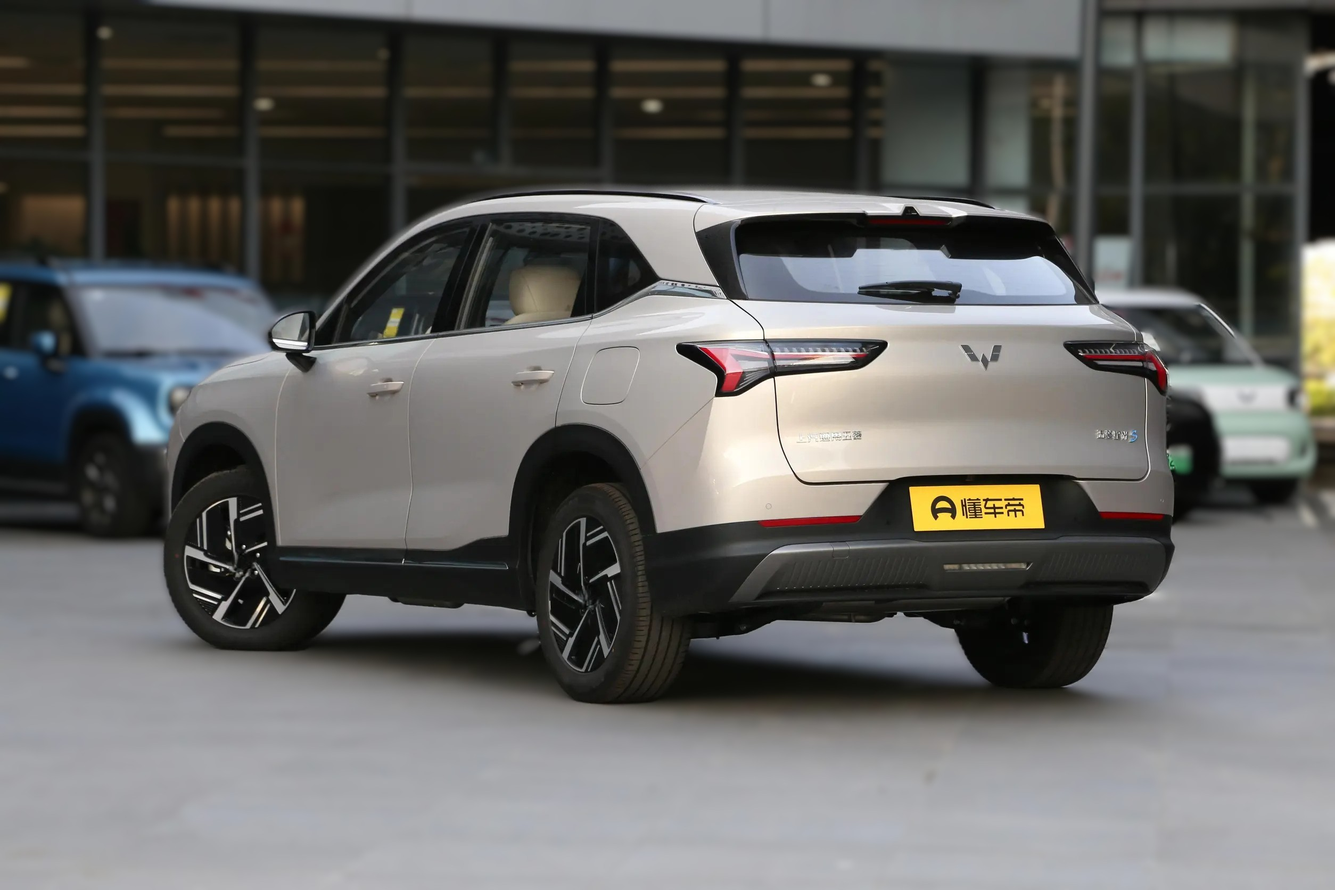SGMW: (960, 344, 1001, 370)
